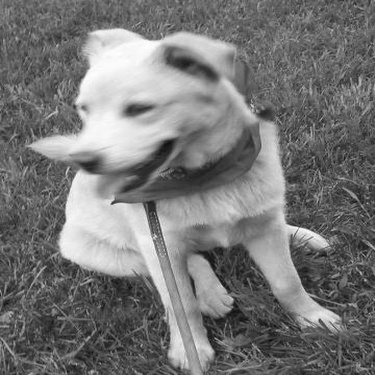dog: (26, 12, 347, 371)
